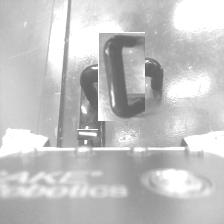Door Handle: (88, 43, 155, 110)
Lock: (79, 126, 96, 144)
